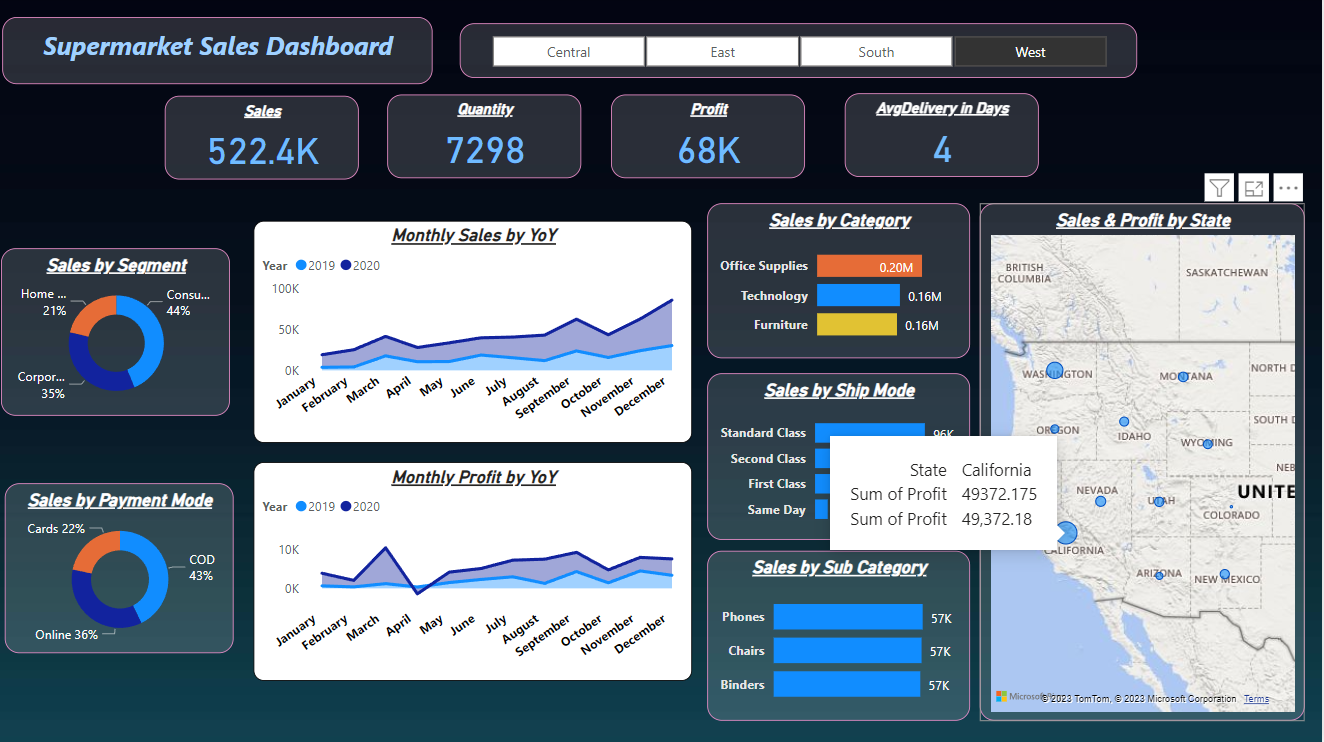

This screenshot's page, from the dashboard's own definition file:
{"tool":"powerbi","page":{"name":"Page 1","canvas":[1280,720],"ordinal":0},"visuals":[{"type":"clusteredBarChart","title":"Sales by Category","fields":{"Category":["SuperStore_Sales_Dataset.Category"],"Y":["Sum(SuperStore_Sales_Dataset.Sales)"]},"box":[686.2,199,253.3,149.5],"z":0},{"type":"clusteredBarChart","title":"Sales by Sub Category","fields":{"Category":["SuperStore_Sales_Dataset.Sub-Category"],"Y":["Sum(SuperStore_Sales_Dataset.Sales)"]},"box":[686.2,534.3,253.3,164],"z":1000},{"type":"stackedAreaChart","title":"Monthly Sales by YoY","fields":{"Category":["SuperStore_Sales_Dataset.Order Date.Variation.Date Hierarchy.Month","SuperStore_Sales_Dataset.Order Date.Variation.Date Hierarchy.Day"],"Y":["Sum(SuperStore_Sales_Dataset.Sales)"],"Series":["SuperStore_Sales_Dataset.Order Date.Variation.Date Hierarchy.Year"]},"box":[248.4,215.9,423.3,214.7],"z":2000},{"type":"stackedAreaChart","title":"Monthly Profit by YoY","fields":{"Category":["SuperStore_Sales_Dataset.Order Date.Variation.Date Hierarchy.Month","SuperStore_Sales_Dataset.Order Date.Variation.Date Hierarchy.Day"],"Series":["SuperStore_Sales_Dataset.Order Date.Variation.Date Hierarchy.Year"],"Y":["Sum(SuperStore_Sales_Dataset.Profit)"]},"box":[248.4,448.6,423.3,211.1],"z":3000},{"type":"card","title":"Sales","fields":{"Values":["Sum(SuperStore_Sales_Dataset.Sales)"]},"box":[162.8,95.3,186.9,80.8],"z":4000},{"type":"donutChart","title":"Sales by Segment","fields":{"Category":["SuperStore_Sales_Dataset.Segment"],"Y":["Sum(SuperStore_Sales_Dataset.Sales)"]},"box":[4.8,242.4,220.7,161.6],"z":5000},{"type":"slicer","title":"Sales by Payment Mode","fields":{"Values":["SuperStore_Sales_Dataset.Region"]},"box":[447.4,25.3,653.7,53.1],"z":6000},{"type":"donutChart","title":"Sales by Payment Mode","fields":{"Category":["SuperStore_Sales_Dataset.Payment Mode"],"Y":["Sum(SuperStore_Sales_Dataset.Sales)"]},"box":[8.4,469.1,220.7,164],"z":7000},{"type":"textbox","box":[6,19.3,414.9,65.1],"z":8000},{"type":"clusteredBarChart","title":"Sales by Ship Mode","fields":{"Y":["Sum(SuperStore_Sales_Dataset.Sales)"],"Category":["SuperStore_Sales_Dataset.Ship Mode"]},"box":[686.2,363,253.3,160.4],"z":9000},{"type":"card","title":"Profit","fields":{"Values":["Sum(SuperStore_Sales_Dataset.Profit)"]},"box":[593.4,94.1,186.9,80.8],"z":10000},{"type":"map","title":"Sales & Profit by State","fields":{"Category":["SuperStore_Sales_Dataset.State"],"Size":["Sum(SuperStore_Sales_Dataset.Profit)"]},"box":[949.1,199,313.6,499.3],"z":11000},{"type":"card","title":"Quantity","fields":{"Values":["Sum(SuperStore_Sales_Dataset.Quantity)"]},"box":[377.5,94.1,186.9,80.8],"z":12000},{"type":"card","title":"AvgDelivery in Days","fields":{"Values":["Avg(SuperStore_Sales_Dataset.AvgDelivery)"]},"box":[818.9,92.9,186.9,80.8],"z":13000}]}

Visuals, with their boxes in screenshot pixels (x1, y1, x2, y2), scaled from the page's 1280x720 canvas onto the 1324x742 screenshot:
"Sales by Category" clusteredBarChart: crop(710, 205, 972, 359)
"Sales by Sub Category" clusteredBarChart: crop(710, 551, 972, 720)
"Monthly Sales by YoY" stackedAreaChart: crop(257, 222, 695, 444)
"Monthly Profit by YoY" stackedAreaChart: crop(257, 462, 695, 680)
"Sales" card: crop(168, 98, 362, 181)
"Sales by Segment" donutChart: crop(5, 250, 233, 416)
"Sales by Payment Mode" slicer: crop(463, 26, 1139, 81)
"Sales by Payment Mode" donutChart: crop(9, 483, 237, 652)
textbox: crop(6, 20, 435, 87)
"Sales by Ship Mode" clusteredBarChart: crop(710, 374, 972, 539)
"Profit" card: crop(614, 97, 807, 180)
"Sales & Profit by State" map: crop(982, 205, 1306, 720)
"Quantity" card: crop(390, 97, 584, 180)
"AvgDelivery in Days" card: crop(847, 96, 1040, 179)
